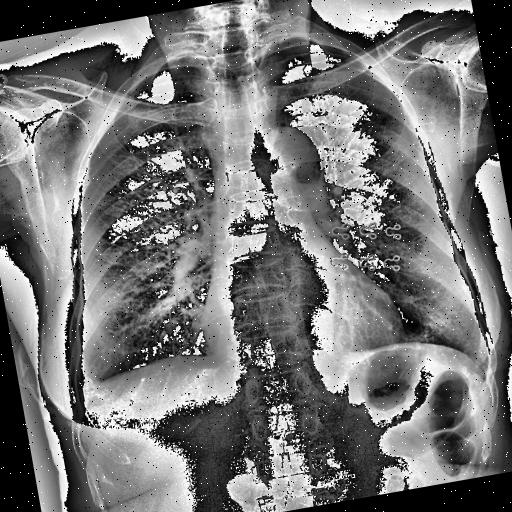0- Aortic enlargement: (251, 120, 327, 204), (248, 116, 326, 196), (251, 120, 323, 184)
10- Pleural effusion: (56, 345, 146, 418), (66, 347, 129, 416), (460, 344, 495, 396), (70, 366, 106, 414)
11- Pleural thickening: (460, 344, 495, 396), (70, 366, 106, 414)
